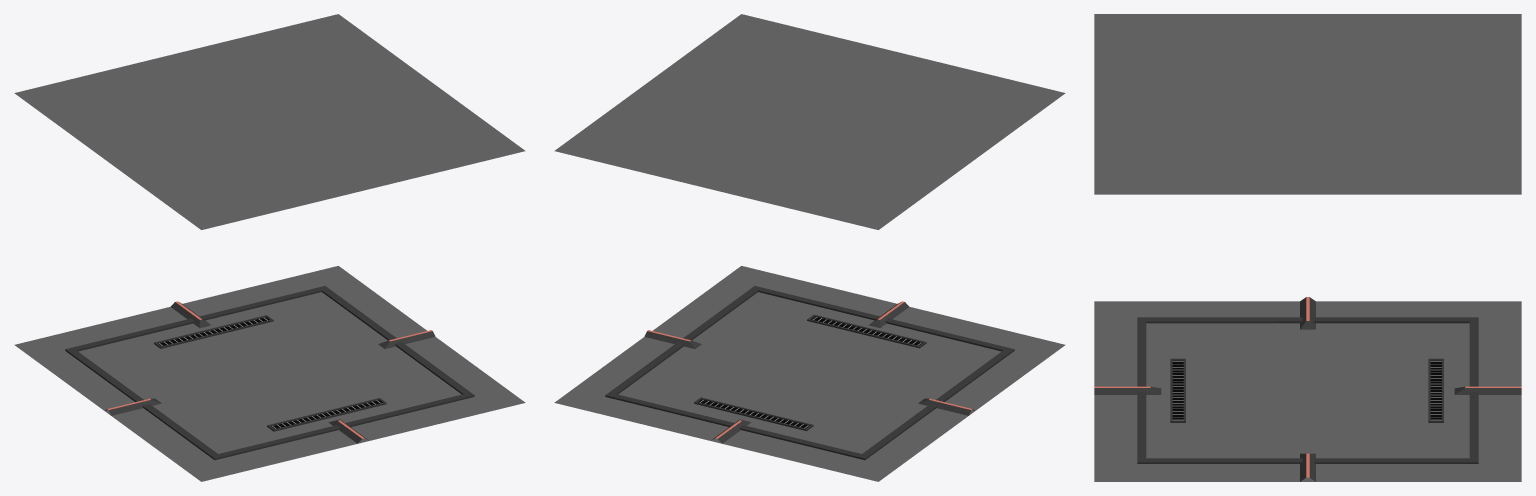
File: Floor_SciFi_Tunnel.fbx
3 views of the same model, side by side, from view 1: azimuth 30°, elevation 25°; view 2: azimuth 150°, elevation 25°; view 3: azimuth 270°, elevation 25° (orthographic). The views are drawn at different scales.
Visible parts, largest first — view 1: Floor_SciFi_Tunnel, Floor_SciFi_Tunnel_Ceiling; view 2: Floor_SciFi_Tunnel, Floor_SciFi_Tunnel_Ceiling; view 3: Floor_SciFi_Tunnel, Floor_SciFi_Tunnel_Ceiling.
Part boxes in pixels (x1,y1,x2,y2): Floor_SciFi_Tunnel: (14, 266, 525, 481); Floor_SciFi_Tunnel_Ceiling: (14, 14, 525, 229); Floor_SciFi_Tunnel: (554, 266, 1065, 481); Floor_SciFi_Tunnel_Ceiling: (554, 14, 1065, 229); Floor_SciFi_Tunnel: (1094, 297, 1521, 481); Floor_SciFi_Tunnel_Ceiling: (1094, 14, 1521, 194).
Bounding box in the file's own units: 500 × 372 × 500.
